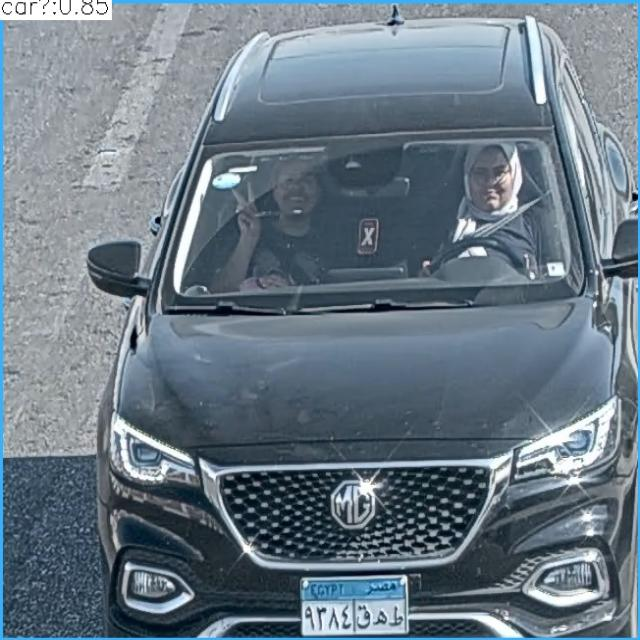windshield: (169, 131, 582, 286)
